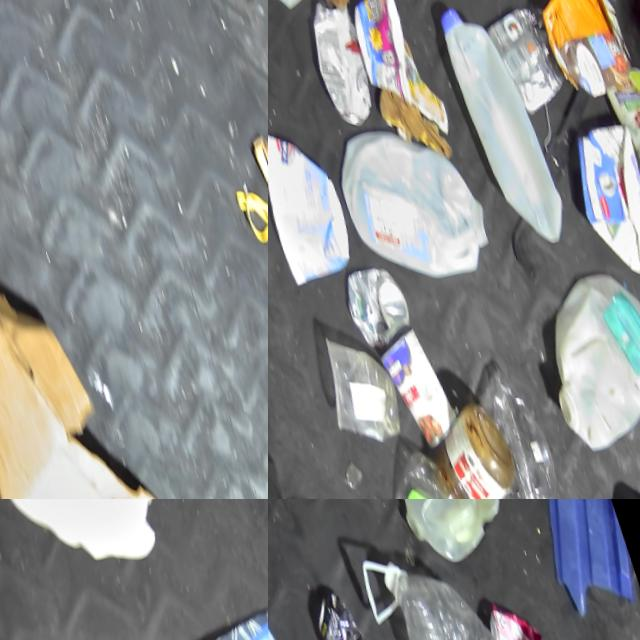can: (512, 253, 640, 453), (364, 320, 456, 452), (294, 0, 382, 127), (529, 0, 636, 98), (329, 258, 412, 350), (596, 59, 640, 163), (301, 582, 378, 640), (478, 592, 563, 640)
milk_jug: (431, 0, 570, 252), (318, 104, 497, 292), (378, 499, 525, 570), (268, 0, 345, 14)
plastic_bottle: (349, 524, 582, 640), (341, 441, 469, 499)
